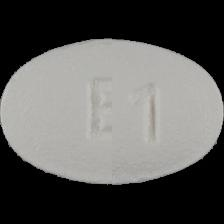0615-7944: (0, 0, 224, 224)
